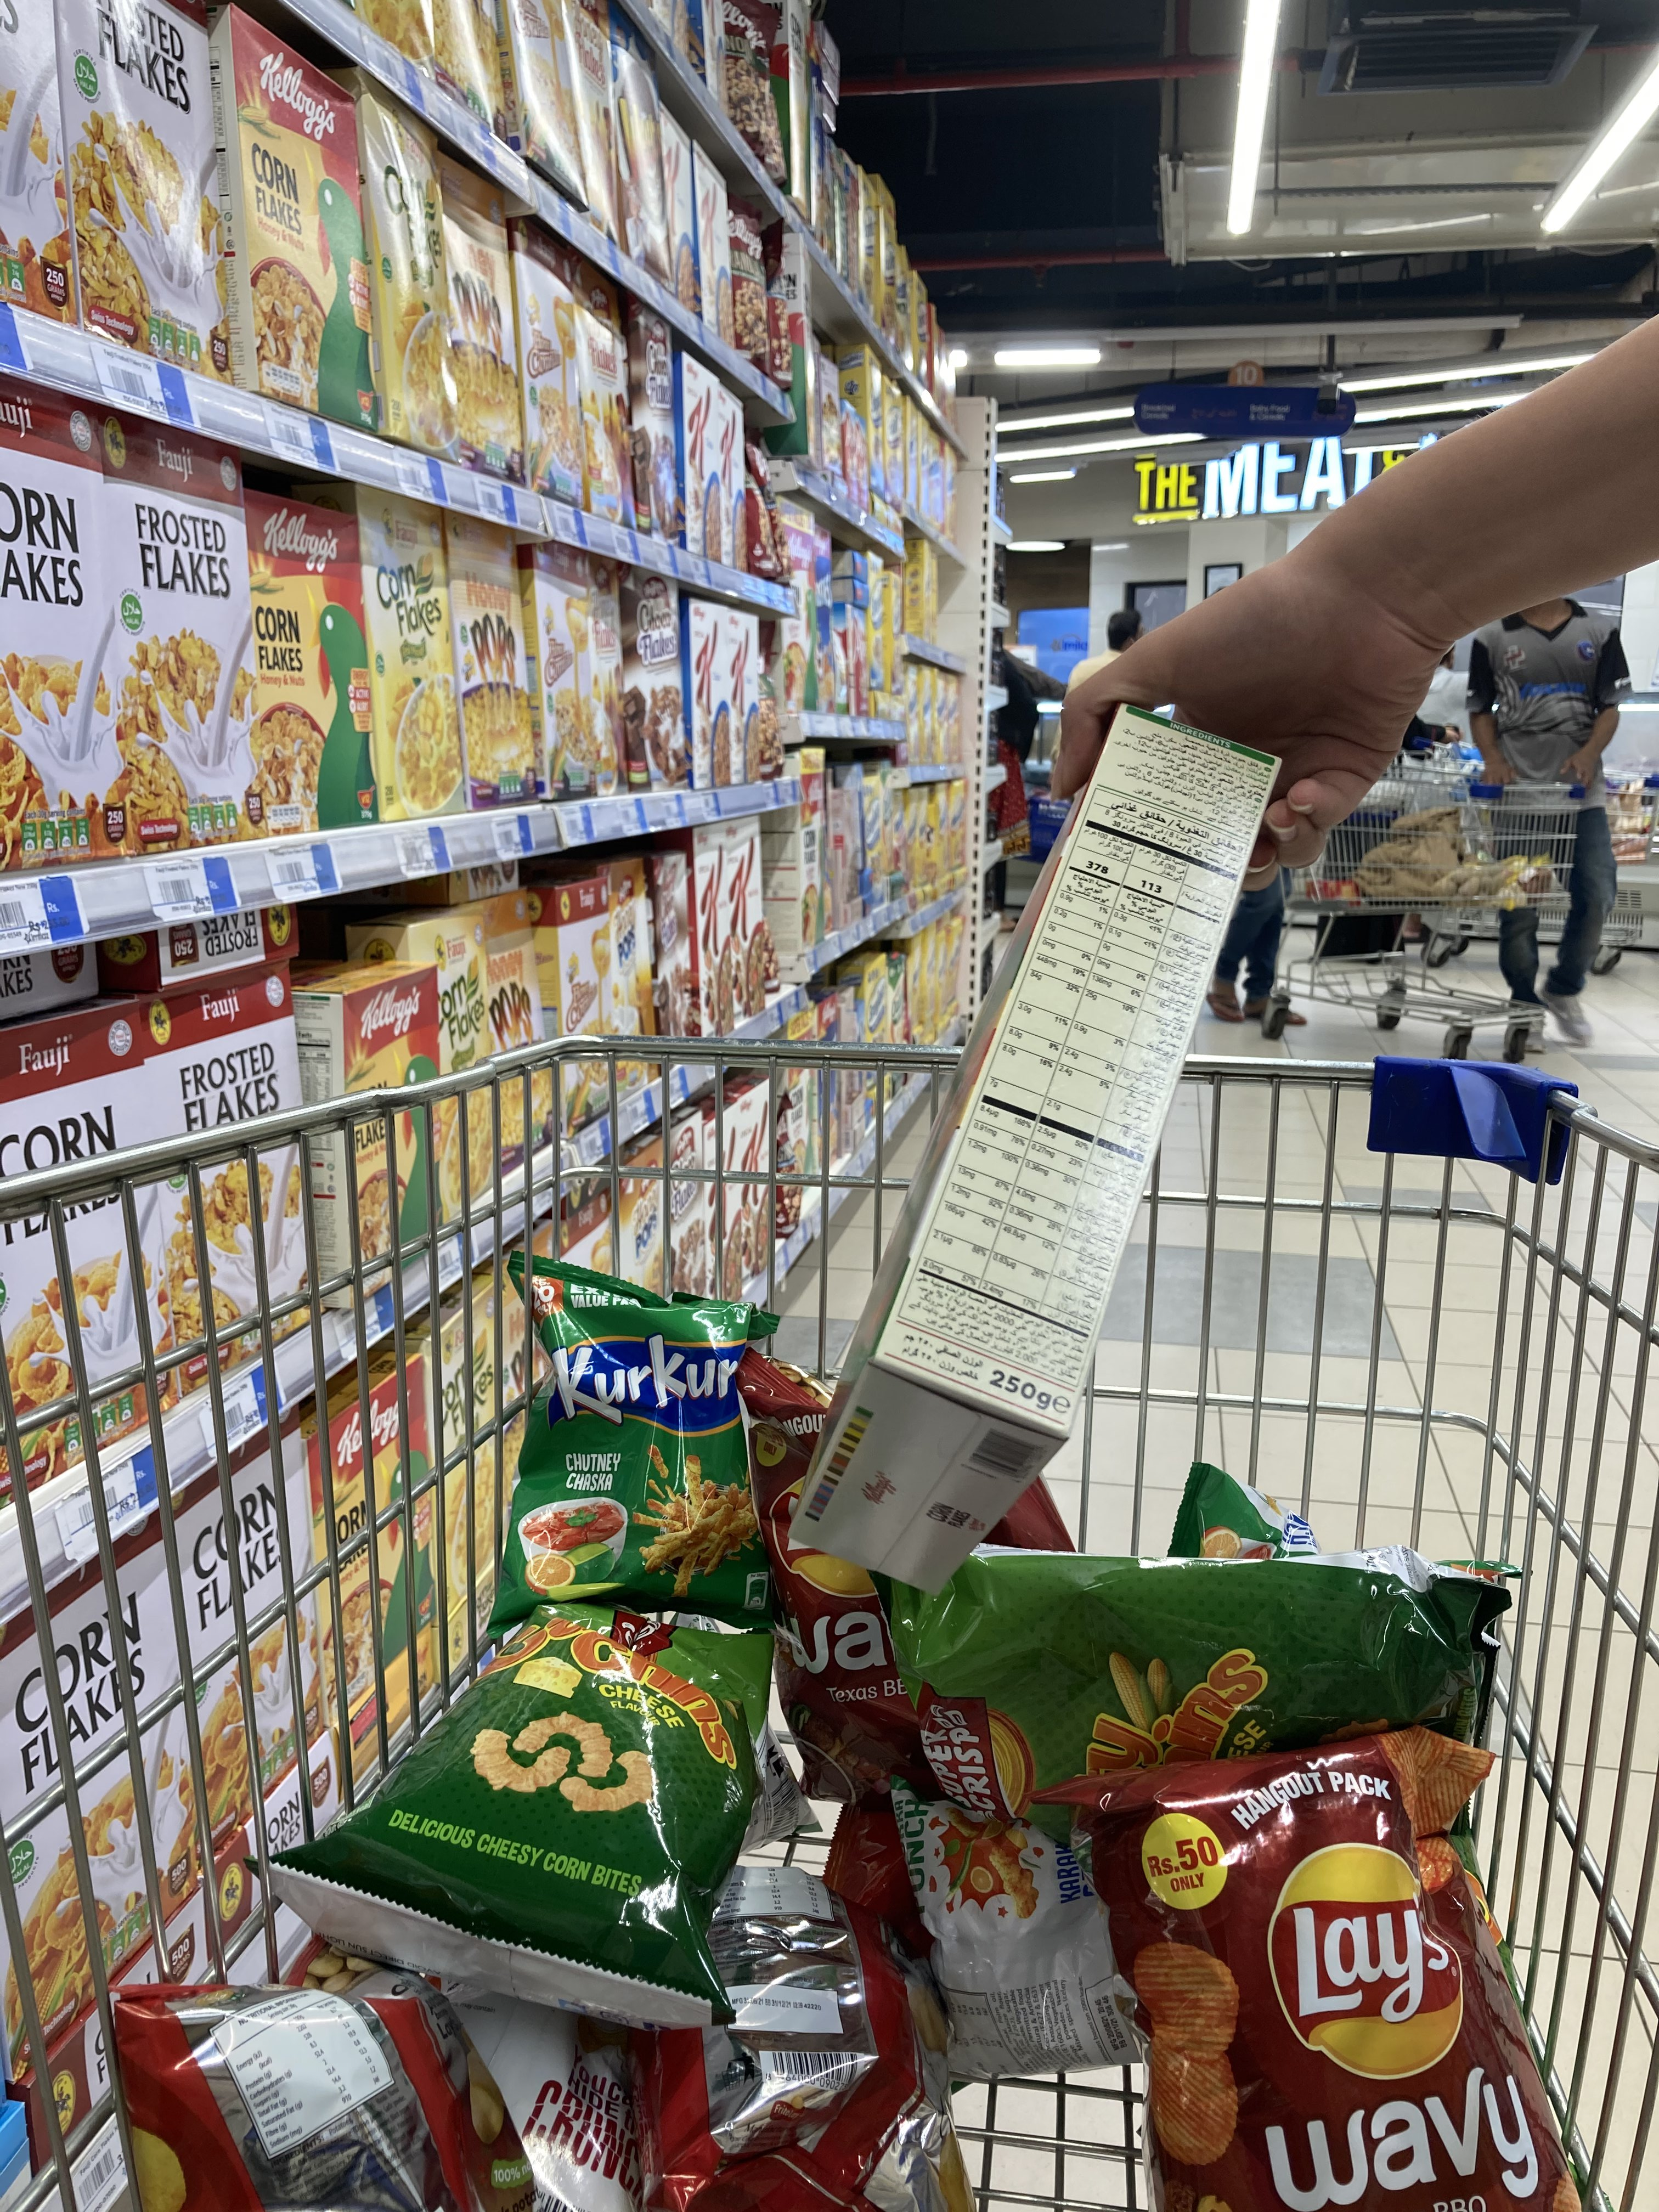Kellogg's Corn Flakes: (782, 695, 1284, 1592)
